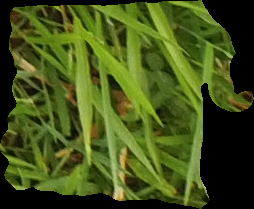grass: (1, 1, 253, 208)
